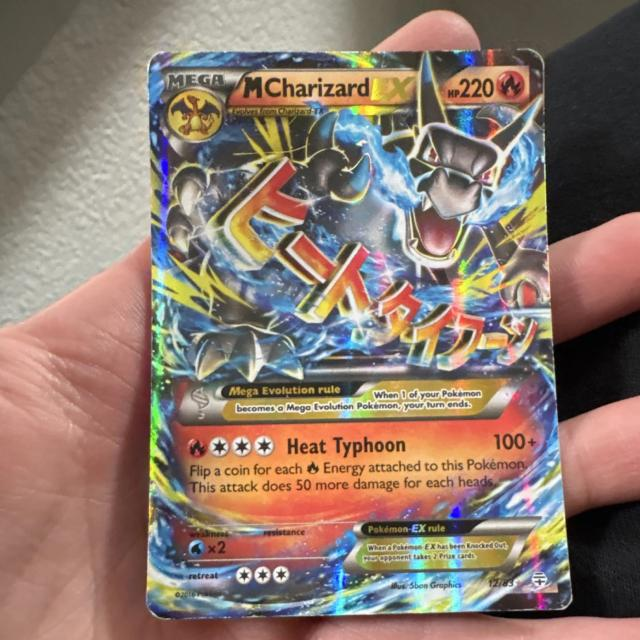Card: (139, 43, 583, 628)
Name: (239, 69, 421, 107)
